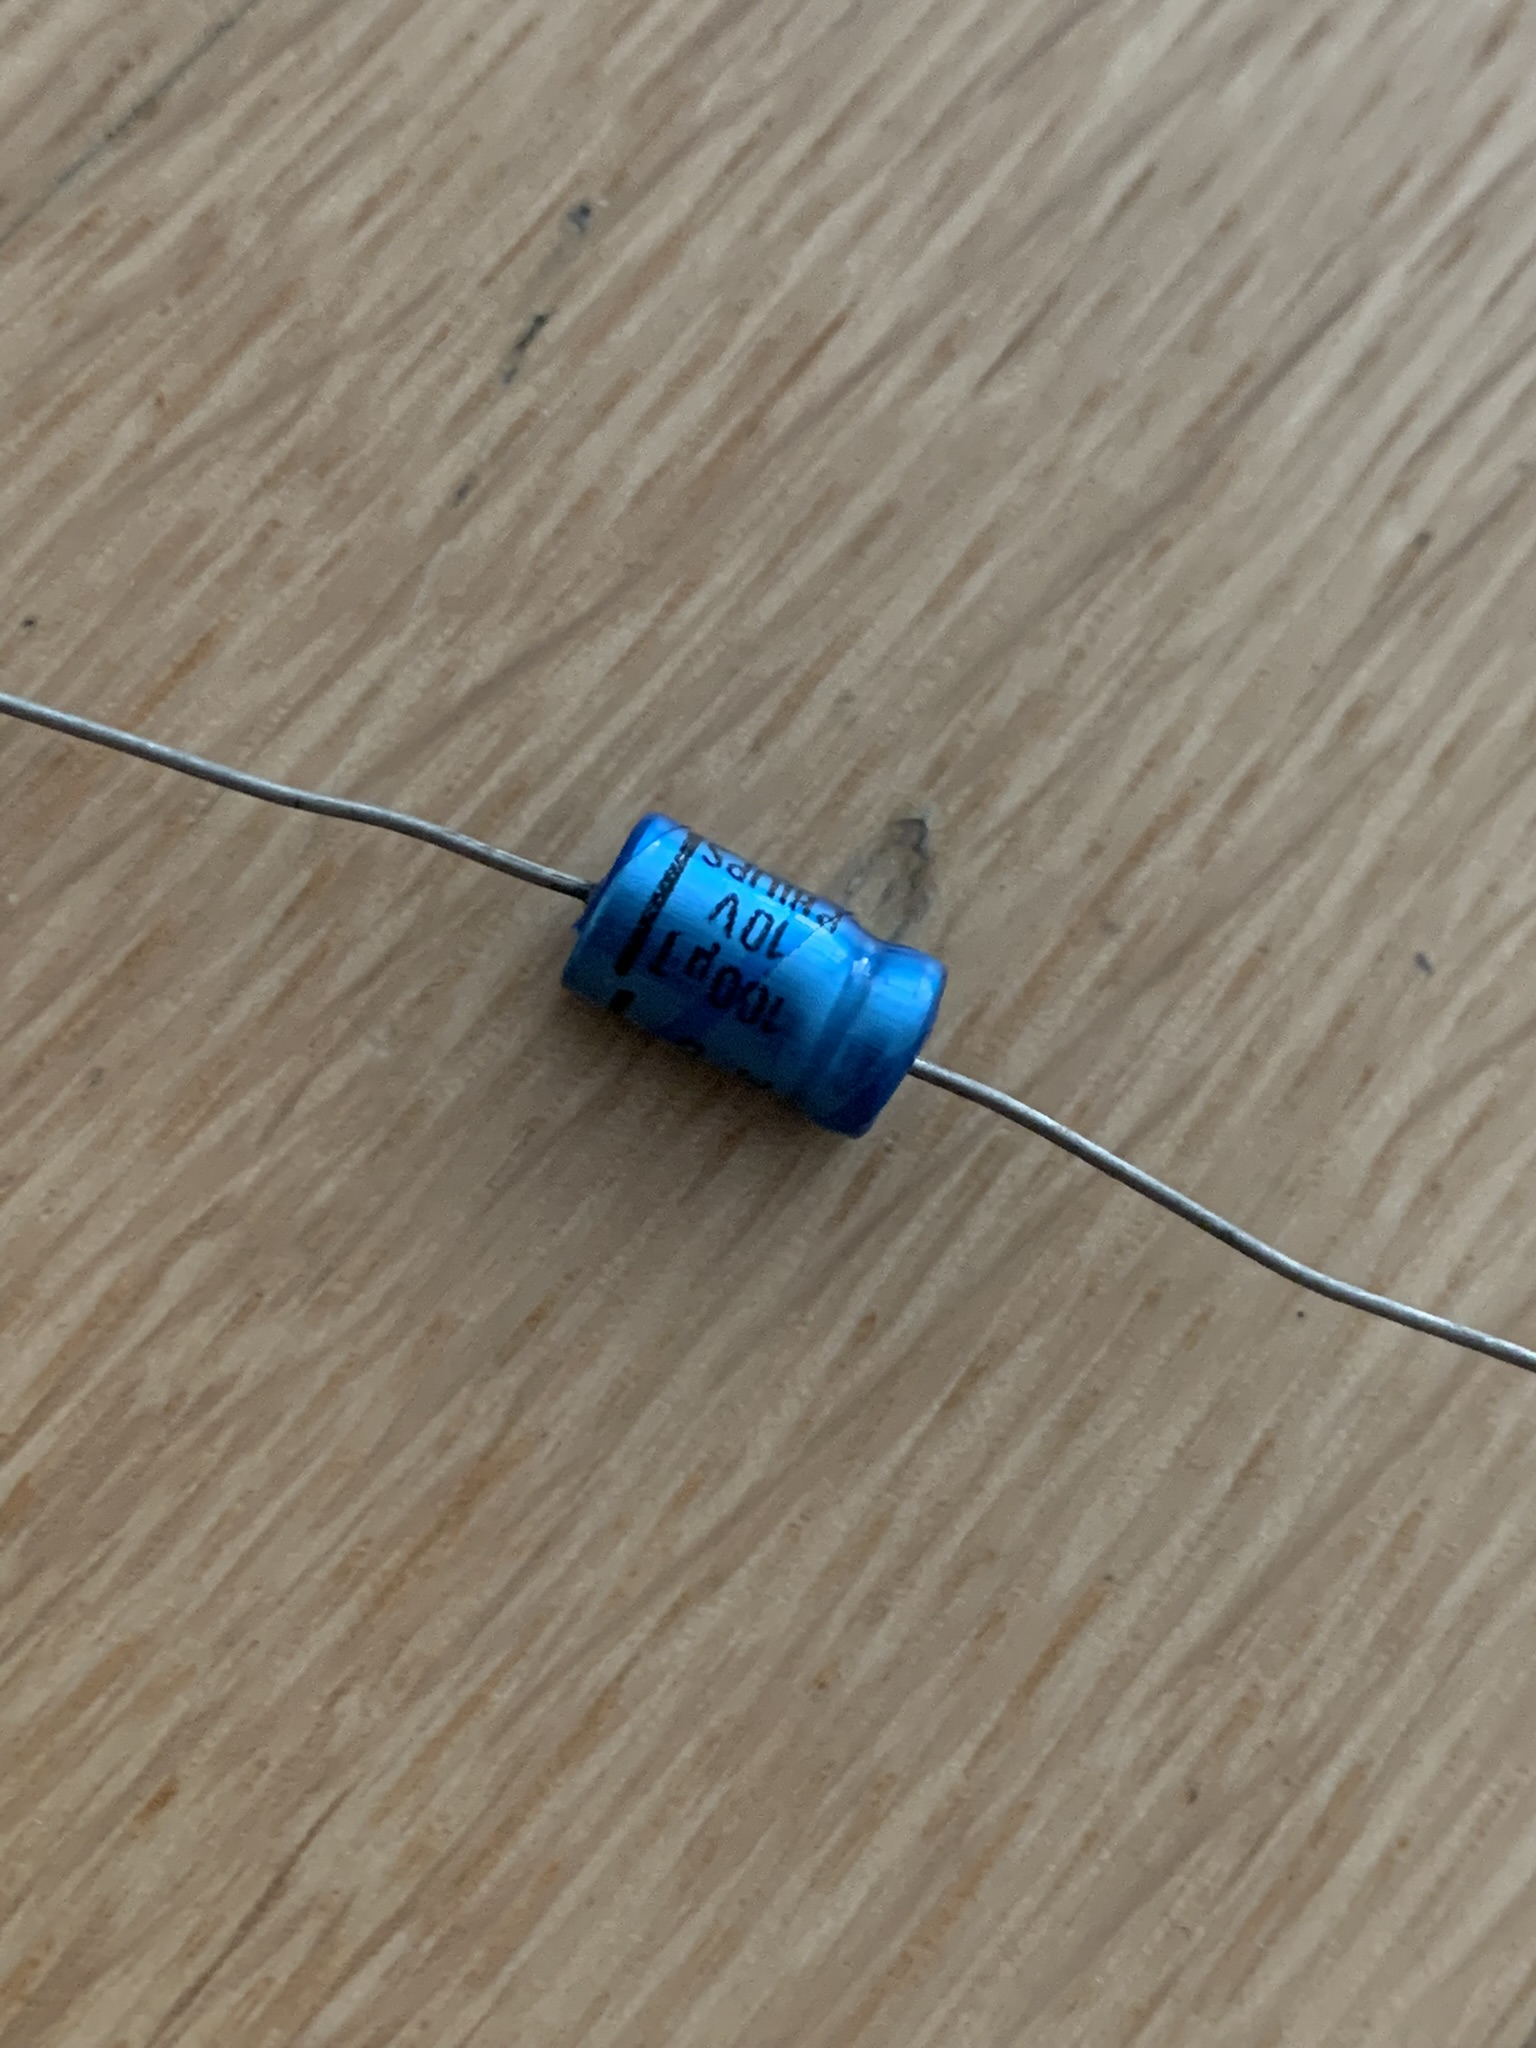capacitor_thd_el: (558, 813, 950, 1138)
